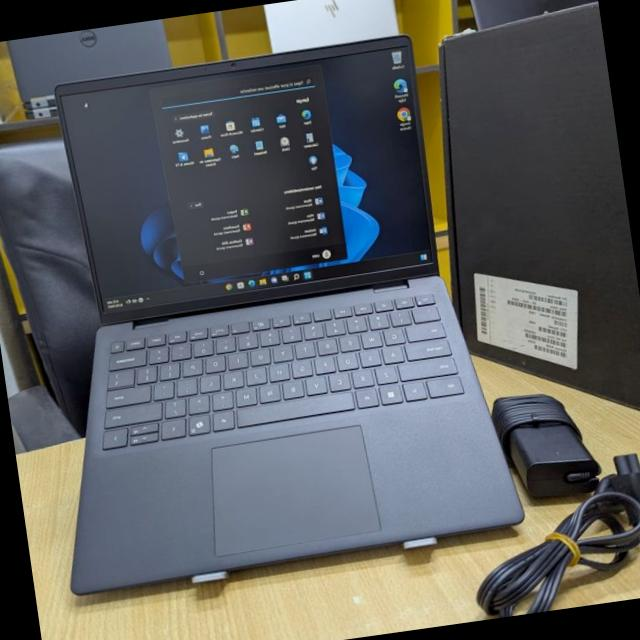laptop: (16, 9, 527, 618)
